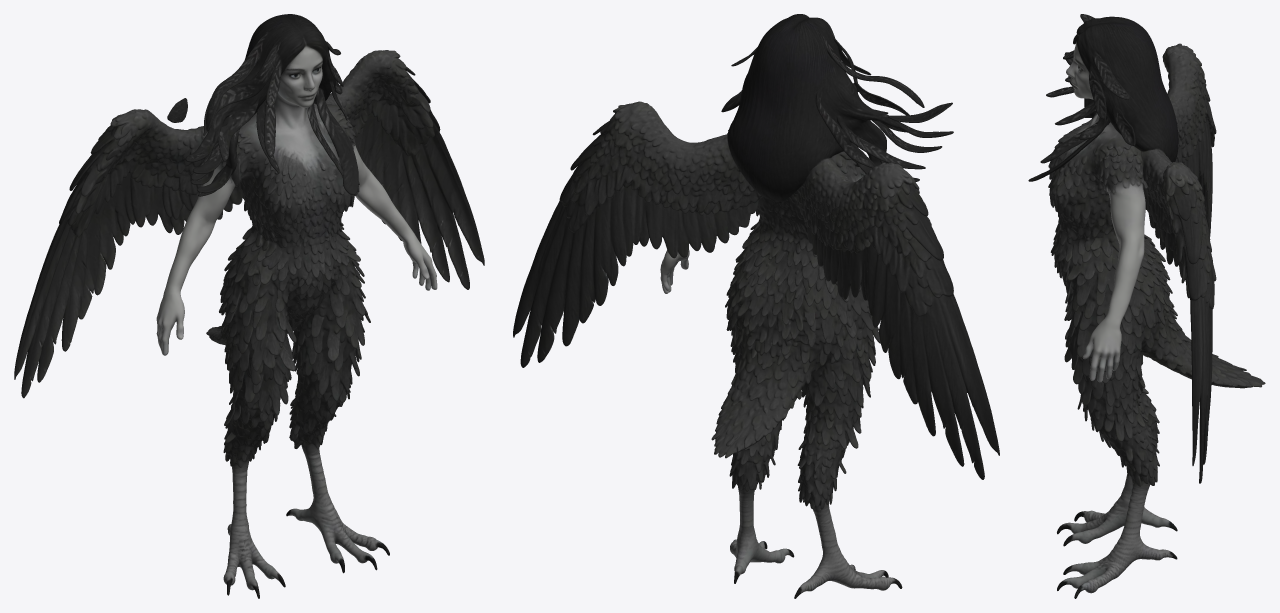
Rendered from 44-la-mujer-de-las-antenas-optimized.glb.
3 views of the same model, side by side, from view 1: azimuth 30°, elevation 25°; view 2: azimuth 150°, elevation 25°; view 3: azimuth 270°, elevation 25° (orthographic). The views are drawn at different scales.
Parts seen in each view (by area): view 1: tripo_node_29bdcf3d-87cf-4e9d-8881-cf1c8382b5ff; view 2: tripo_node_29bdcf3d-87cf-4e9d-8881-cf1c8382b5ff; view 3: tripo_node_29bdcf3d-87cf-4e9d-8881-cf1c8382b5ff.
Part boxes in pixels (x1=…): tripo_node_29bdcf3d-87cf-4e9d-8881-cf1c8382b5ff: x1=14, y1=14, x2=484, y2=598; tripo_node_29bdcf3d-87cf-4e9d-8881-cf1c8382b5ff: x1=513, y1=14, x2=999, y2=598; tripo_node_29bdcf3d-87cf-4e9d-8881-cf1c8382b5ff: x1=1028, y1=14, x2=1265, y2=598.
Bounding box in the file's own units: 0.9024 × 1 × 0.3966.
Materials: 1 (1 with a texture image).
